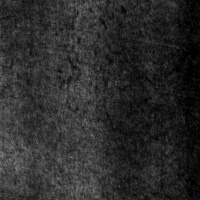crazing: (65, 5, 108, 116)
